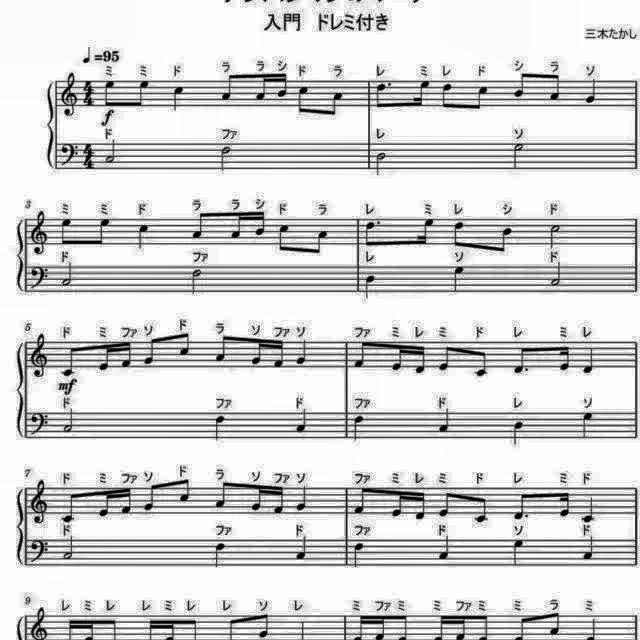Bass-clef: (28, 409, 52, 439), (27, 263, 51, 293), (28, 538, 52, 566), (59, 141, 81, 171)
Eighth-note: (59, 488, 81, 524), (59, 342, 81, 378), (93, 215, 115, 249), (274, 220, 296, 254), (511, 342, 533, 376), (309, 227, 331, 259), (493, 224, 515, 256), (190, 210, 212, 242), (511, 490, 533, 522), (292, 83, 312, 117), (133, 77, 153, 111), (212, 478, 232, 512), (217, 70, 237, 104), (324, 88, 344, 120), (141, 482, 161, 514), (141, 336, 161, 368), (470, 492, 490, 524), (352, 484, 372, 516), (374, 80, 394, 112), (212, 334, 232, 366), (438, 488, 457, 520), (449, 218, 468, 250), (470, 83, 490, 113), (471, 346, 489, 379), (440, 81, 458, 113), (437, 342, 455, 374), (58, 216, 76, 248), (353, 339, 371, 371), (361, 216, 379, 248), (175, 475, 193, 505), (512, 71, 530, 101), (548, 71, 564, 103), (102, 78, 118, 110), (175, 332, 193, 360)
Half-note: (186, 266, 204, 298), (61, 532, 79, 562), (549, 260, 567, 290), (215, 144, 233, 174), (508, 139, 526, 169), (547, 222, 565, 250), (59, 262, 77, 290), (371, 148, 389, 176), (104, 137, 120, 165), (62, 408, 78, 436)
Quarter-note: (580, 492, 600, 524), (134, 222, 154, 252), (580, 532, 600, 562), (436, 408, 456, 436), (436, 534, 456, 562), (579, 346, 597, 376), (511, 538, 529, 568), (579, 410, 597, 440), (451, 264, 469, 294), (583, 77, 601, 106), (211, 413, 229, 442), (170, 85, 187, 115), (294, 534, 312, 562), (211, 540, 229, 568), (350, 540, 368, 568), (292, 407, 310, 435), (349, 413, 366, 442), (294, 483, 310, 513), (512, 417, 528, 447), (294, 338, 310, 367), (361, 273, 377, 301)
Sixteenth-note: (415, 216, 437, 248), (412, 76, 432, 110), (96, 488, 114, 522), (412, 342, 428, 378), (253, 72, 271, 104), (227, 210, 245, 242), (387, 488, 405, 520), (412, 488, 428, 524), (387, 342, 405, 374), (96, 342, 114, 374), (247, 337, 265, 367), (247, 483, 265, 513), (272, 484, 288, 516), (118, 485, 134, 517), (556, 488, 572, 520), (118, 338, 134, 370), (272, 338, 288, 370), (252, 208, 268, 238), (558, 343, 574, 373), (276, 72, 290, 100)
Treble-clef: (28, 331, 52, 381), (28, 478, 52, 526), (26, 208, 50, 256), (59, 69, 81, 119)
